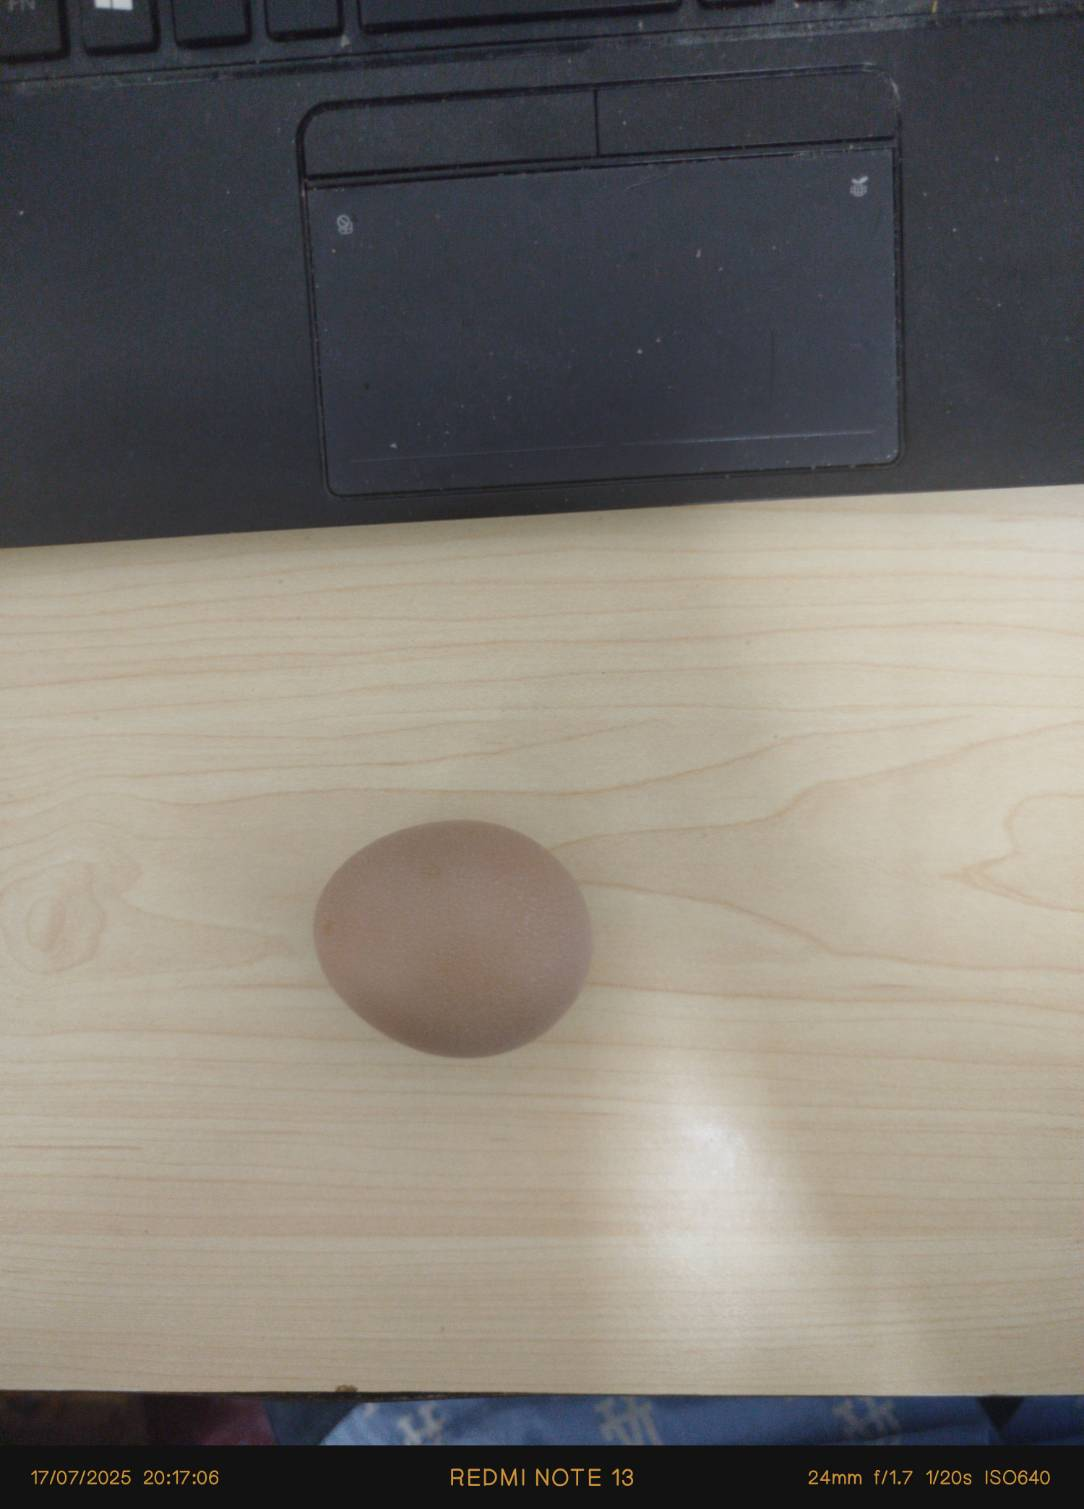egg2: (293, 826, 604, 1061)
